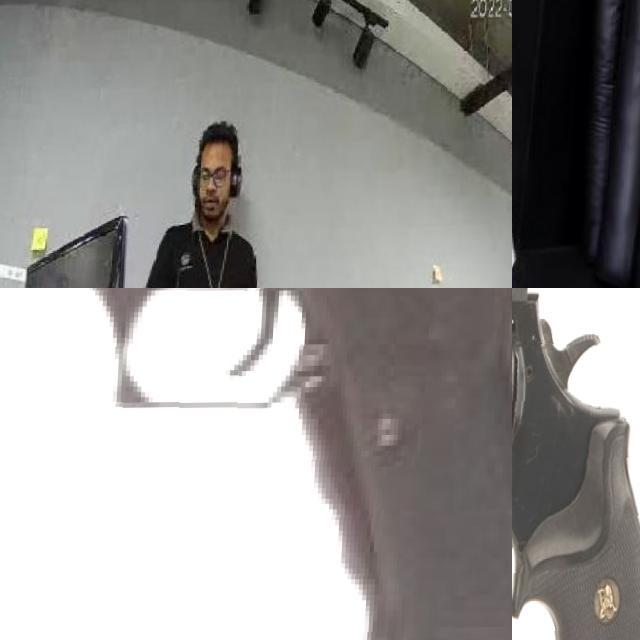-: (512, 19, 550, 132)
gun-knife-thesis - v11 Yolov5 augmented: (0, 288, 512, 640), (512, 288, 640, 640)
